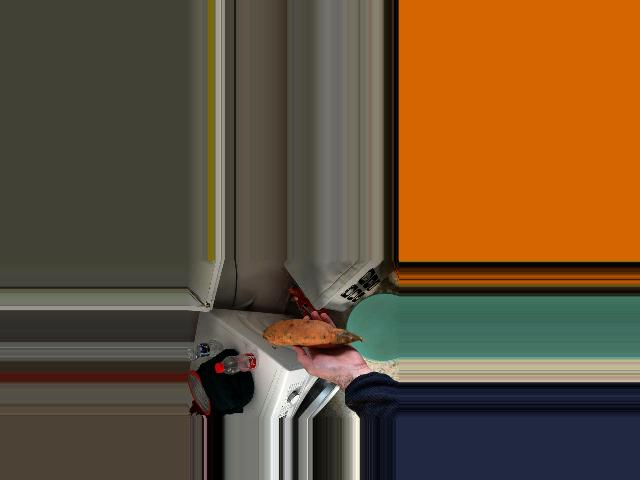sweet_potato: (254, 320, 341, 353)
